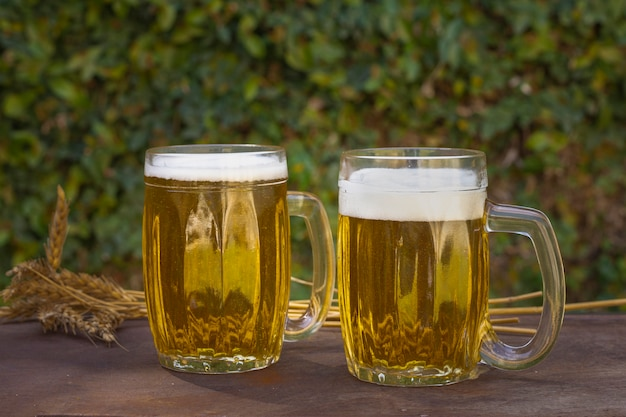alcohol: (336, 145, 569, 388), (141, 148, 333, 377)
